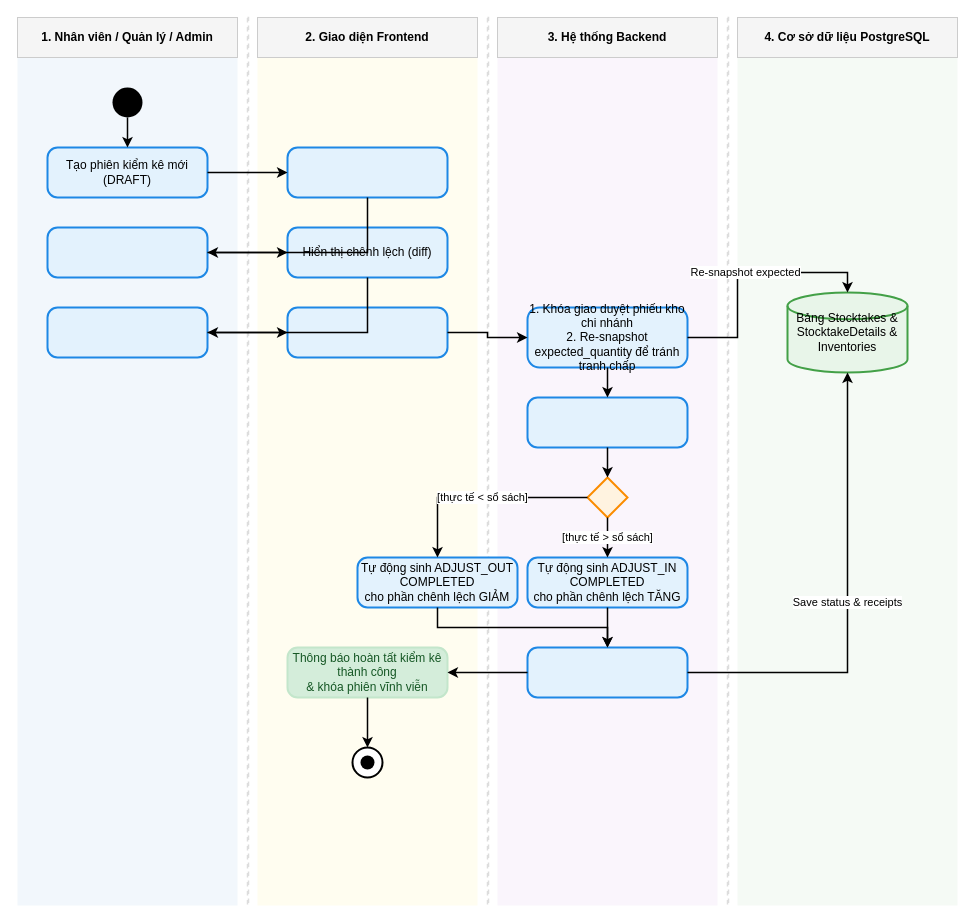
Some shapes in this 975 by 924 pixel diagram are drawn without their labels. Here are the shapes that lost their labels. From the top down, the centre of each, then its label:
At point (367, 172): "1. Khởi tạo mã phiên ST + UUID 8 2. Lấy dữ liệu tồn sổ sách hiện tại".
At point (127, 252): "Thực hiện đếm thực tế, nhập số lượng vào actual_quantity".
At point (127, 332): "Nhấn Xác nhận hoàn tất (Duyệt)".
At point (367, 332): "Gửi yêu cầu hoàn tất kiểm kê".
At point (607, 422): "Duyệt qua từng dòng chênh lệch".
At point (607, 672): "1. Đồng bộ tồn kho trong DB 2. Chuyển phiên sang COMPLETED".
